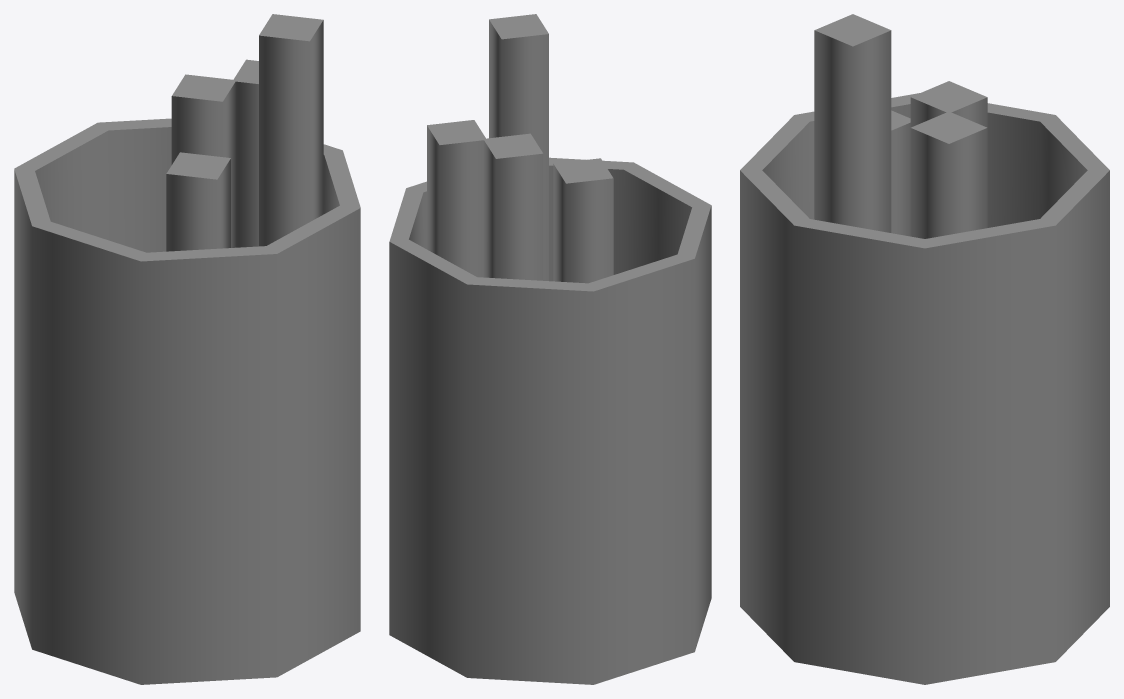
The model's file is PenHolder_01_snaps001.fbx.
3 renders of one model, left to right at view 1: azimuth 30°, elevation 25°; view 2: azimuth 150°, elevation 25°; view 3: azimuth 270°, elevation 25°, orthographic. The views are drawn at different scales.
Visible parts, largest first — view 1: PenHolder_01_snaps001; view 2: PenHolder_01_snaps001; view 3: PenHolder_01_snaps001.
Part boxes in pixels (box(x1,y1,x2,y2)): PenHolder_01_snaps001: box(14, 14, 360, 684); PenHolder_01_snaps001: box(389, 14, 711, 684); PenHolder_01_snaps001: box(740, 14, 1109, 684).
Size of the model in its own units: 0.12 by 0.2188 by 0.12.
Materials: 1 (1 with a texture image).
